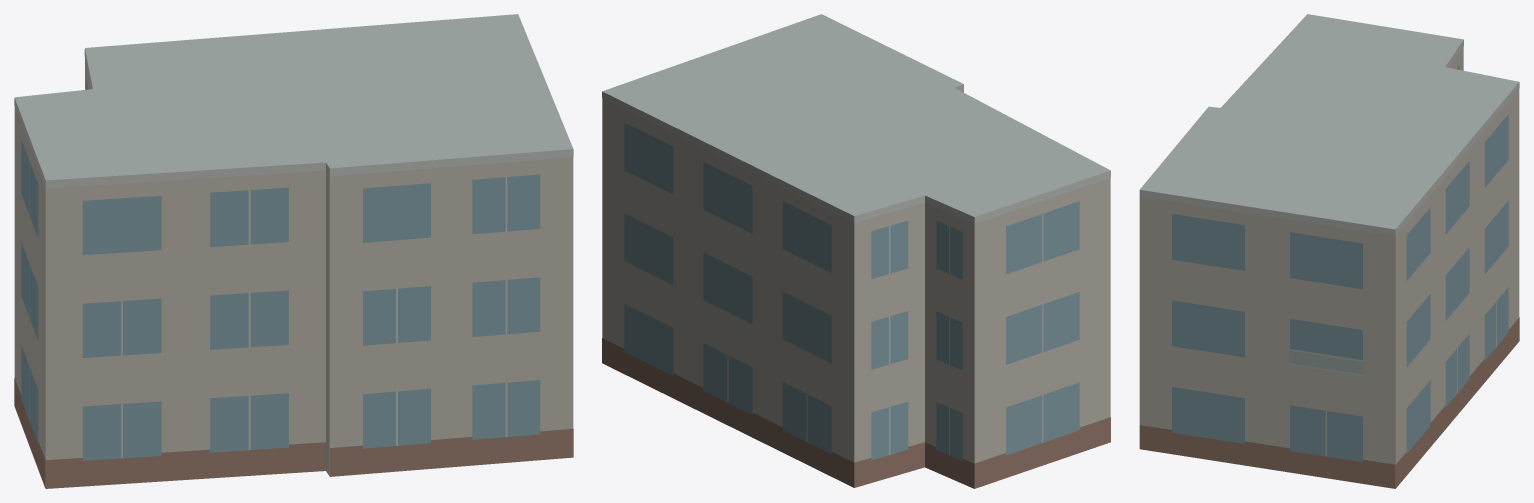
Rendered from survey-upis-32994981.glb.
3 renders of one model, left to right at view 1: azimuth 30°, elevation 25°; view 2: azimuth 150°, elevation 25°; view 3: azimuth 270°, elevation 25°, orthographic. The views are drawn at different scales.
Parts seen in each view (by area): view 1: survey-upis-32994981.tmp; view 2: survey-upis-32994981.tmp; view 3: survey-upis-32994981.tmp.
Part boxes in pixels (<box>): survey-upis-32994981.tmp: <box>14,14,573,488</box>; survey-upis-32994981.tmp: <box>602,14,1110,488</box>; survey-upis-32994981.tmp: <box>1139,14,1519,488</box>.
Size of the model in its own units: 16.75 by 9.4 by 12.48.
